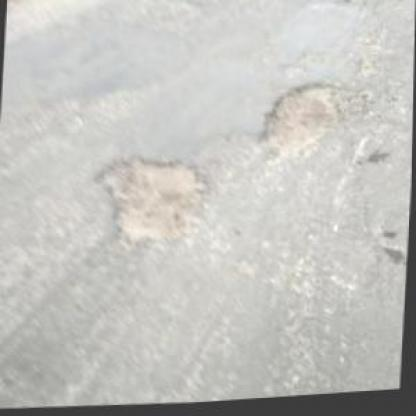pothole: (87, 147, 218, 255), (254, 79, 361, 176)
